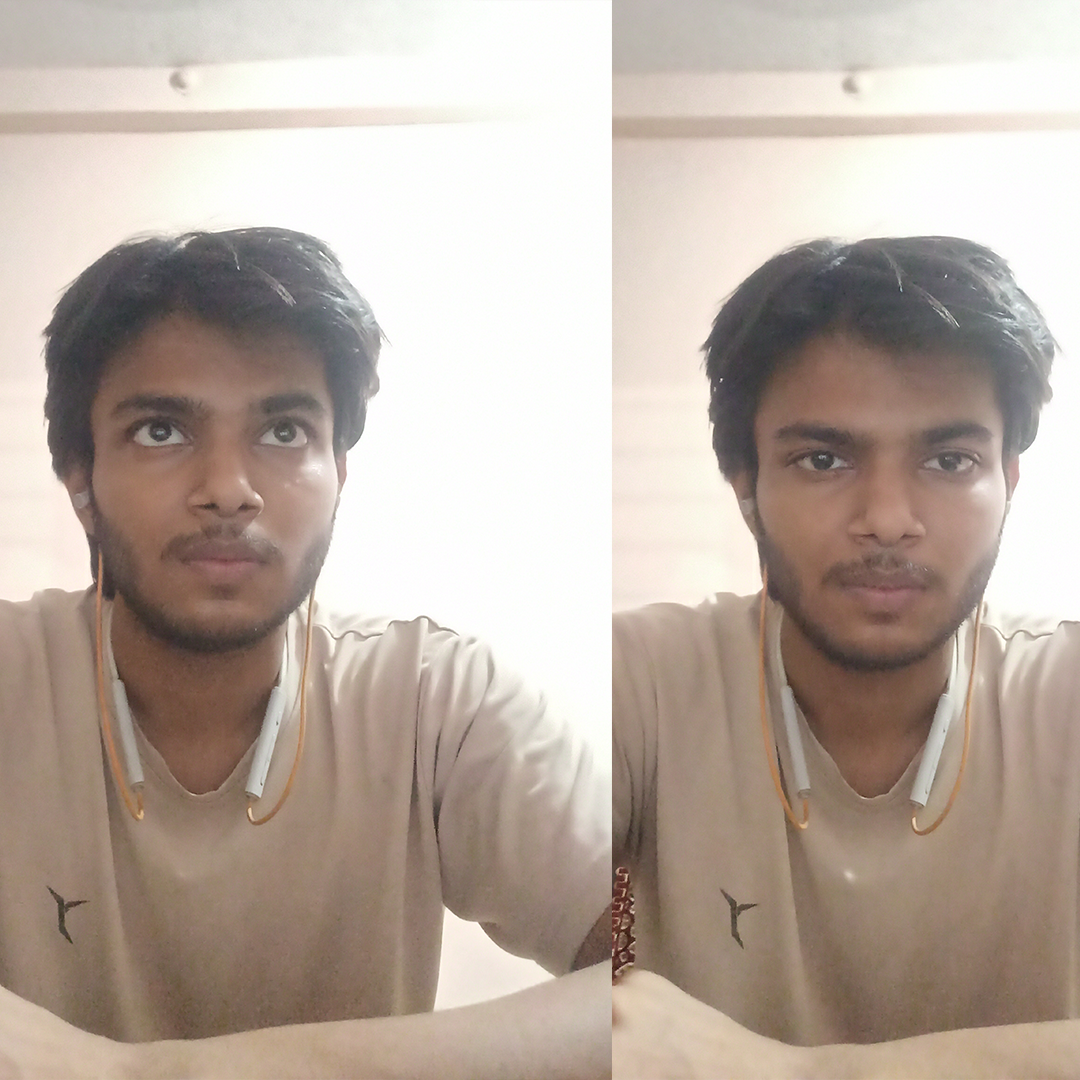Focused: (665, 222, 1073, 730), (40, 227, 383, 707)
